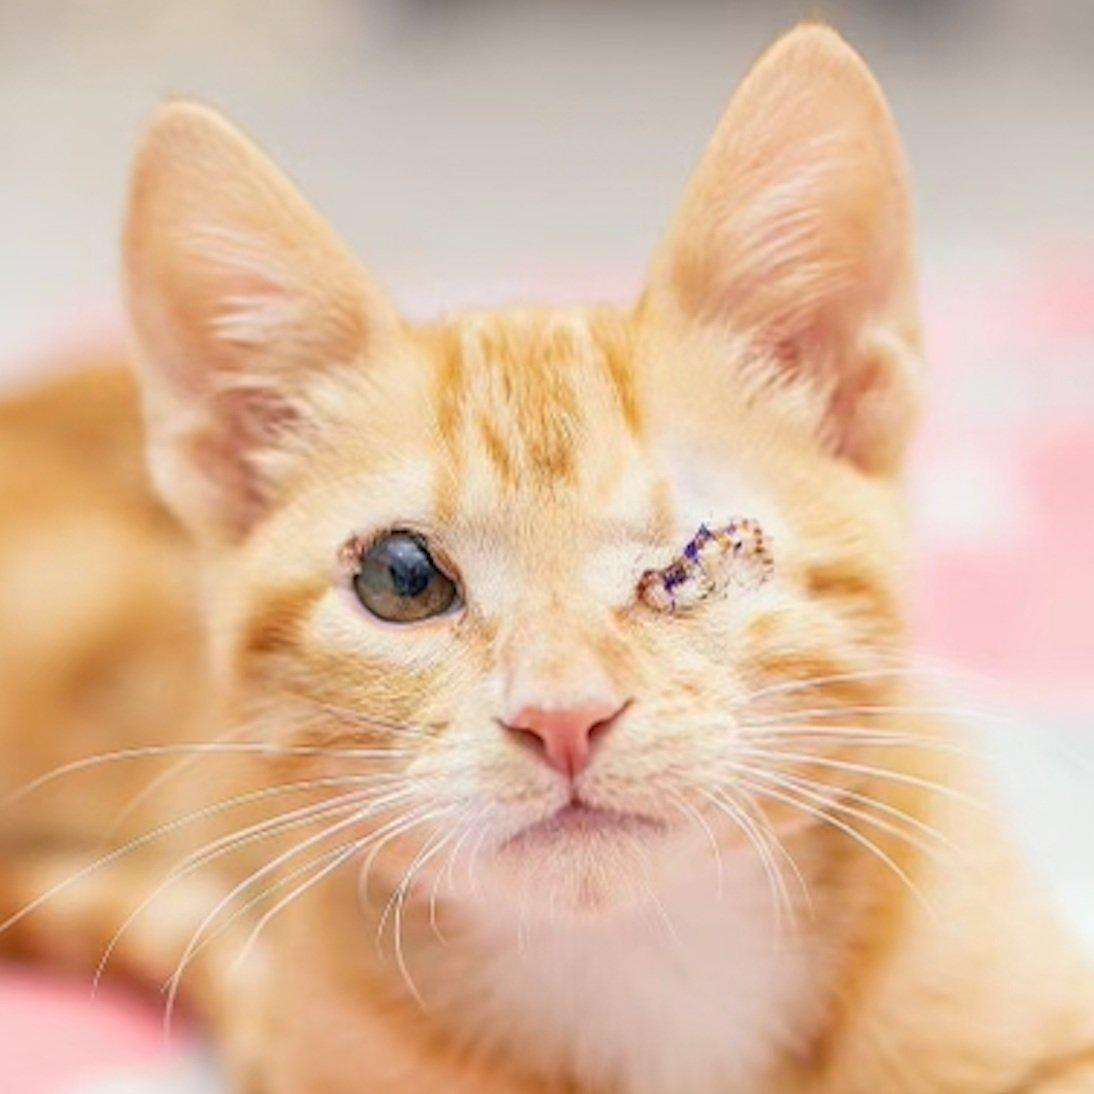eye_infection: (348, 526, 486, 628)
